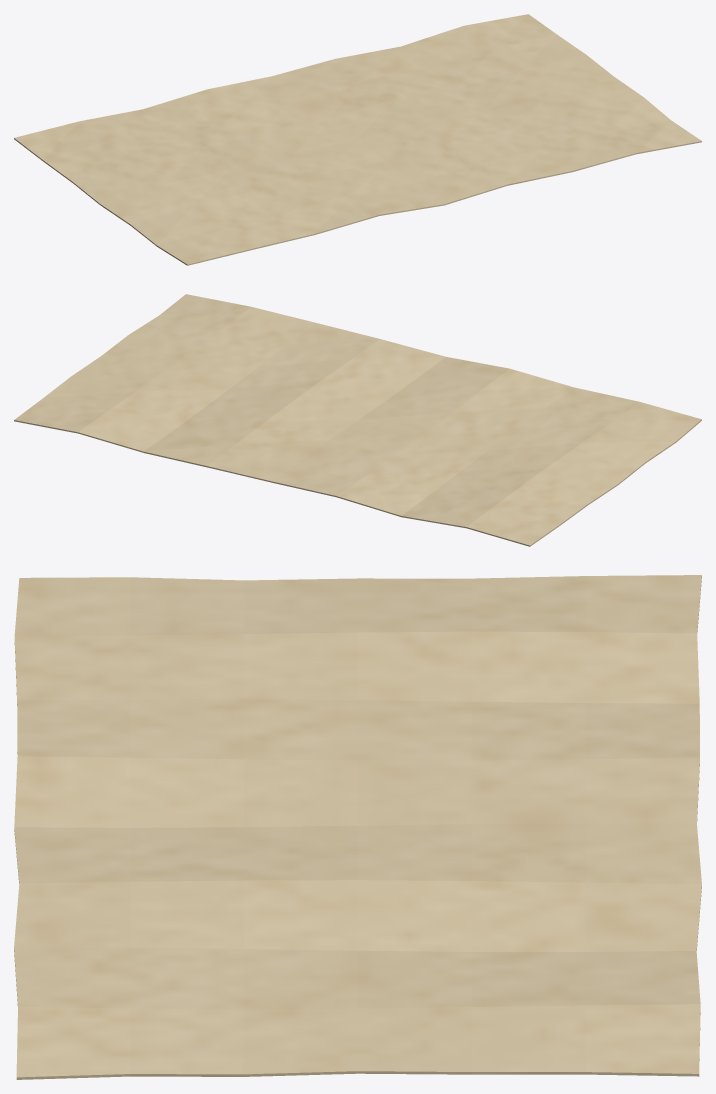
File: Paper_Blank.obj
3 views of the same model, one above another, from view 1: azimuth 30°, elevation 25°; view 2: azimuth 150°, elevation 25°; view 3: azimuth 270°, elevation 25° (orthographic). The views are drawn at different scales.
Parts seen in each view (by area): view 1: Paper_BlankSurface; view 2: Paper_BlankSurface; view 3: Paper_BlankSurface.
Part boxes in pixels (x1,y1,x2,y2): Paper_BlankSurface: (14, 14, 701, 265); Paper_BlankSurface: (14, 294, 701, 546); Paper_BlankSurface: (14, 575, 701, 1079).
Size of the model in its own units: 0.6229 by 0.00729 by 0.3628.
1 material, 1 textured.
